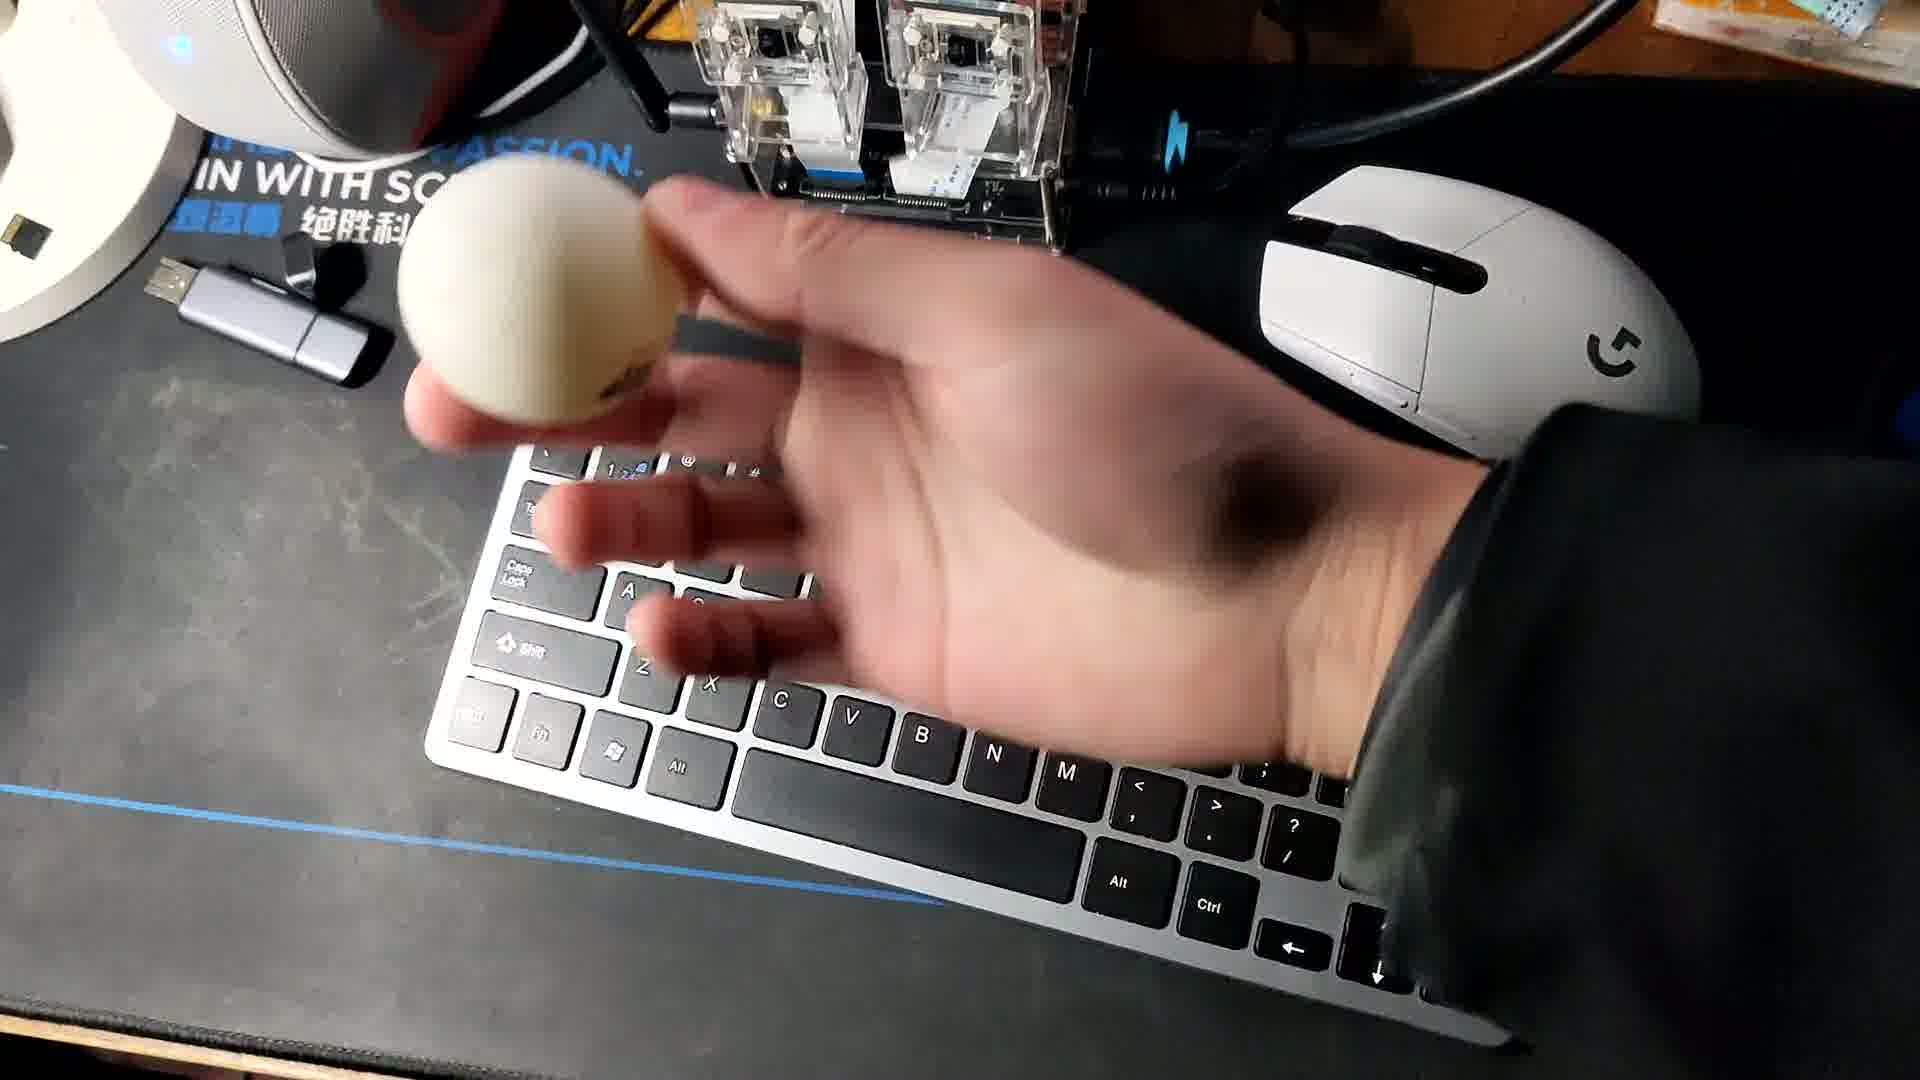Ball: (388, 156, 698, 426)
